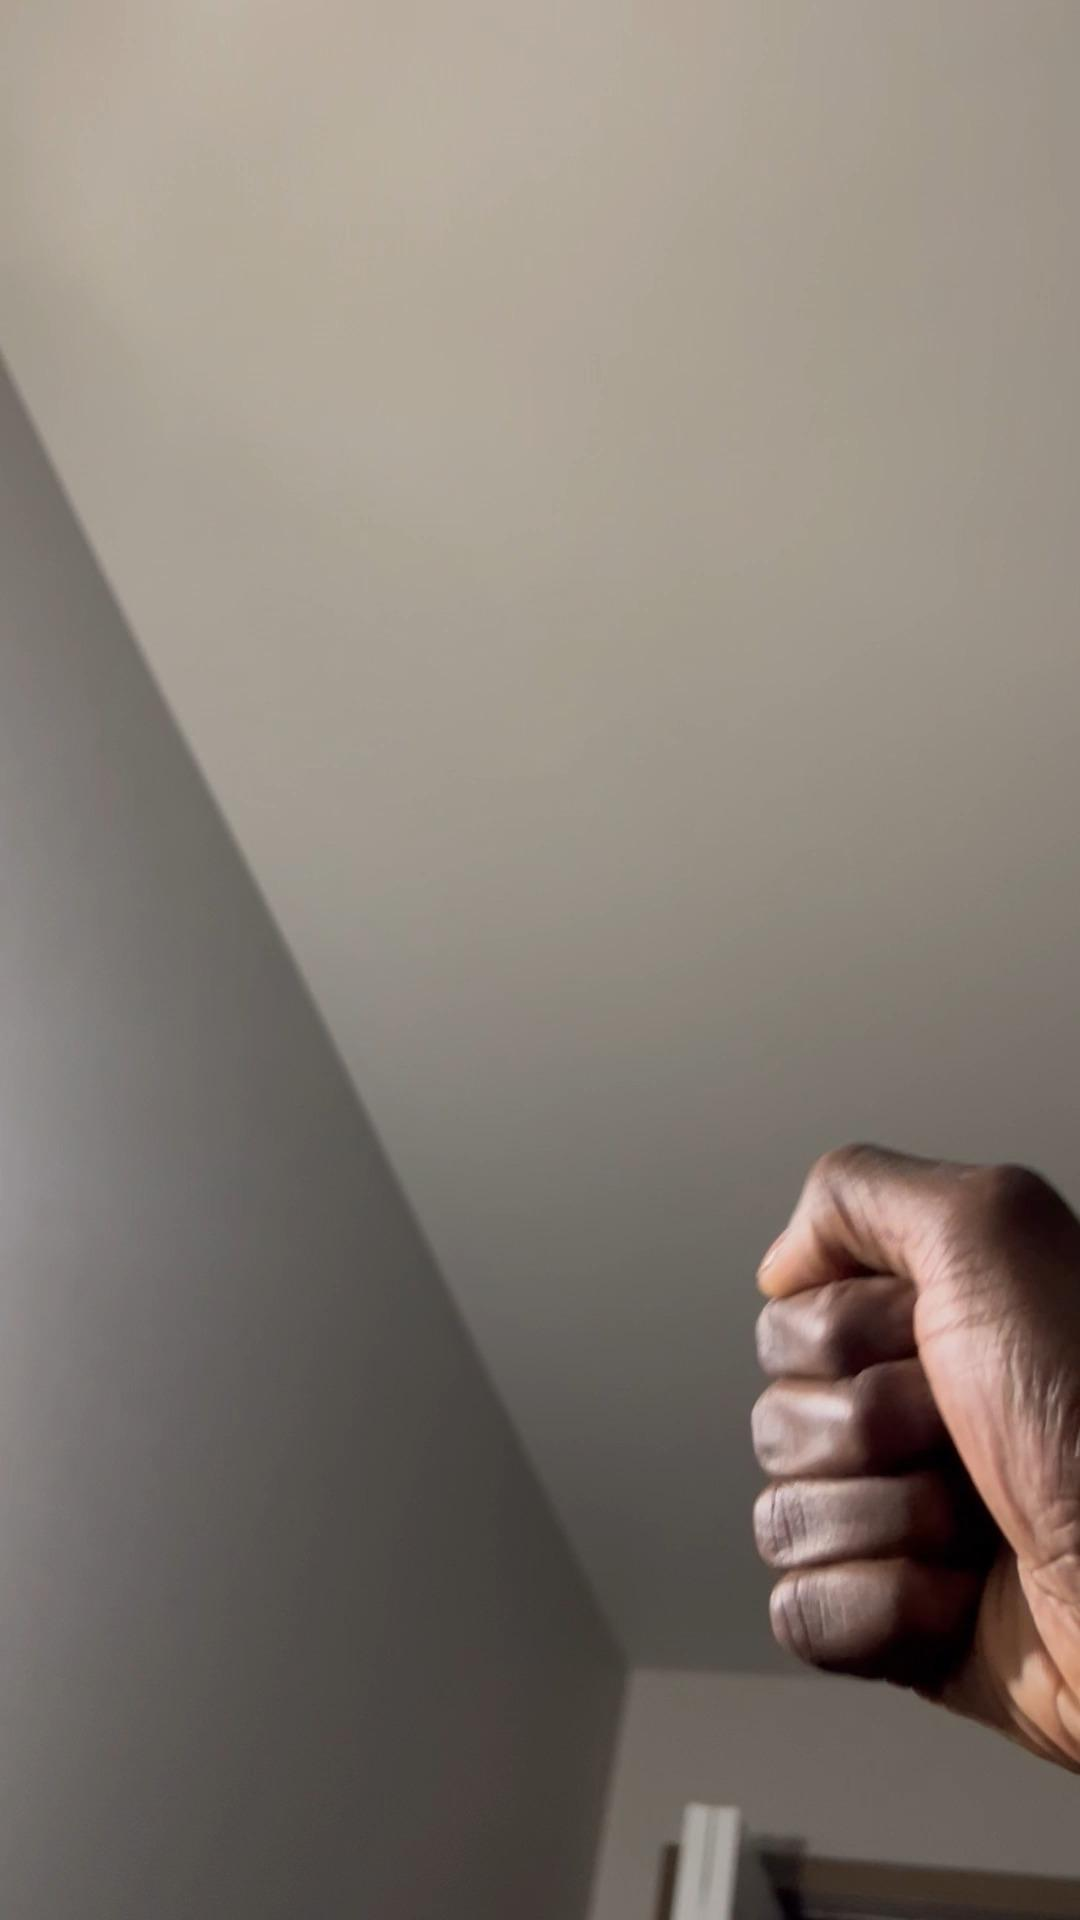Rock: (737, 1130, 1080, 1792)
